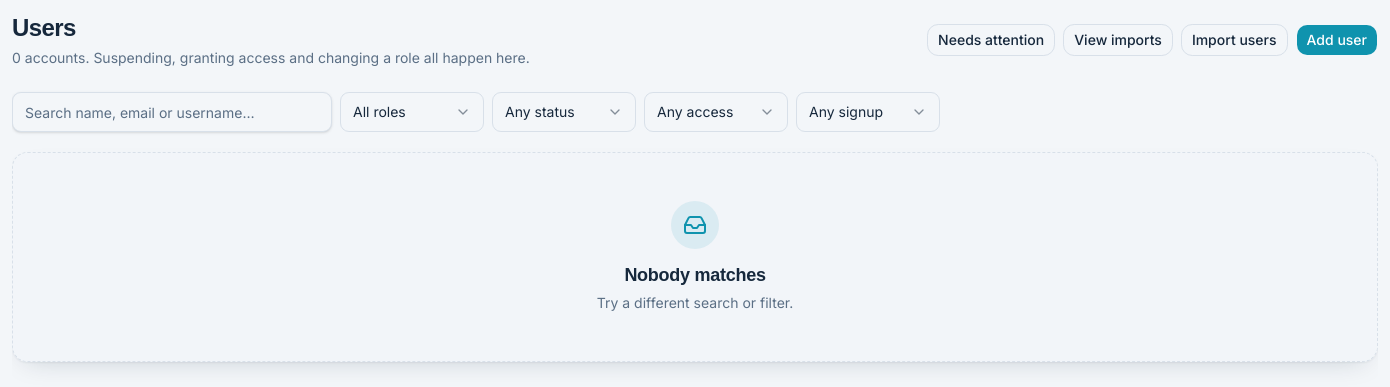
a flagged row › shows its flag reason once the chip is on
This screenshot has width=1390, height=387.
Click the button "Needs attention": click(991, 40) [927,24,1055,56]
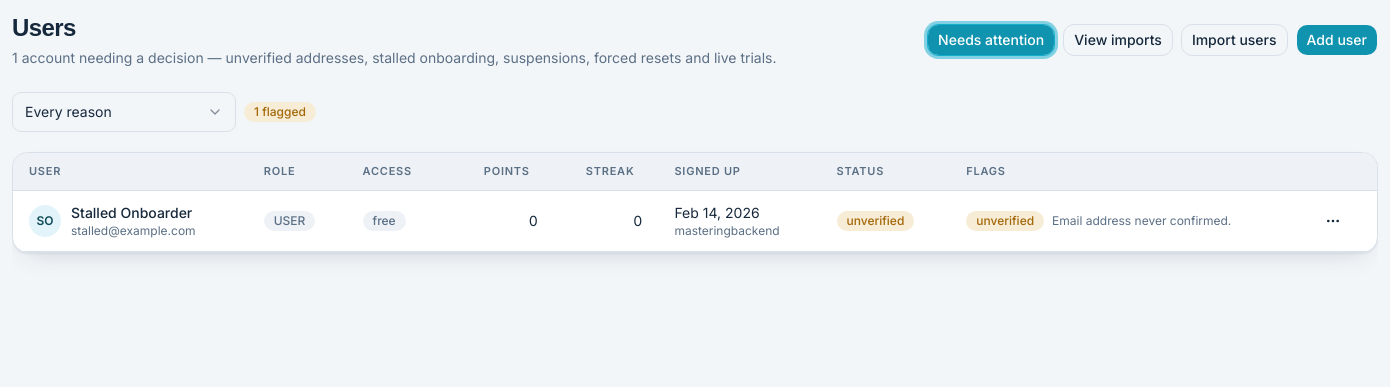
Check: the text "Email address never confirmed." is shown, box [1052,212,1231,228]
